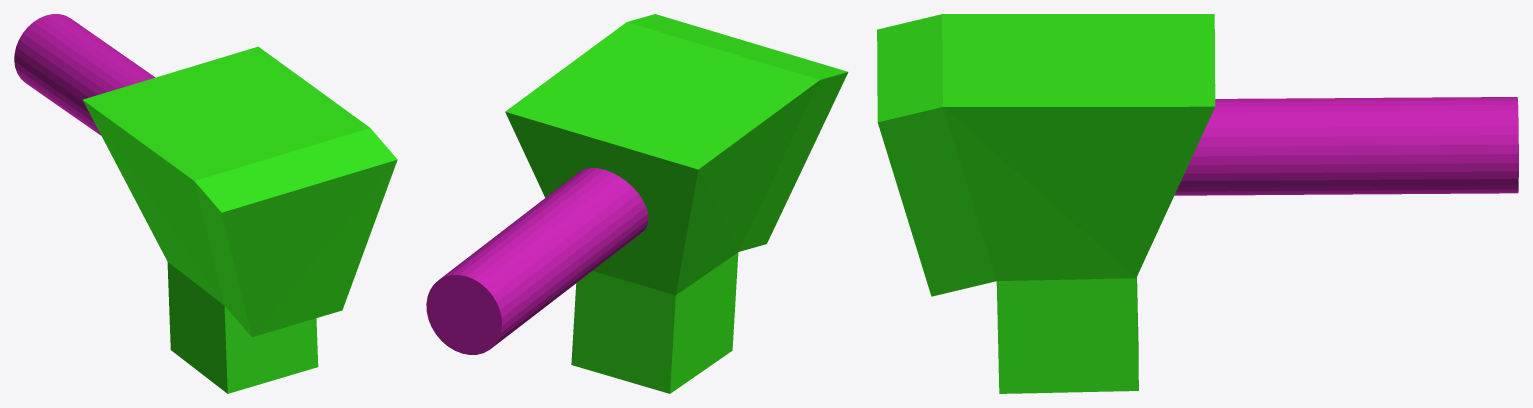
Rendered from jgb-experiment.obj.
3 renders of one model, left to right at view 1: azimuth 30°, elevation 25°; view 2: azimuth 150°, elevation 25°; view 3: azimuth 270°, elevation 25°, orthographic. The views are drawn at different scales.
Visible parts, largest first — view 1: Cube, Cylinder.001; view 2: Cube, Cylinder.001; view 3: Cube, Cylinder.001.
Boxes of the visible parts, <box> form: Cube: <box>83,46,397,393</box>; Cylinder.001: <box>14,14,155,135</box>; Cube: <box>505,14,848,393</box>; Cylinder.001: <box>426,168,648,354</box>; Cube: <box>877,14,1215,393</box>; Cylinder.001: <box>1174,97,1518,195</box>.
Size of the model in its own units: 5.19 by 7.1 by 13.31.
